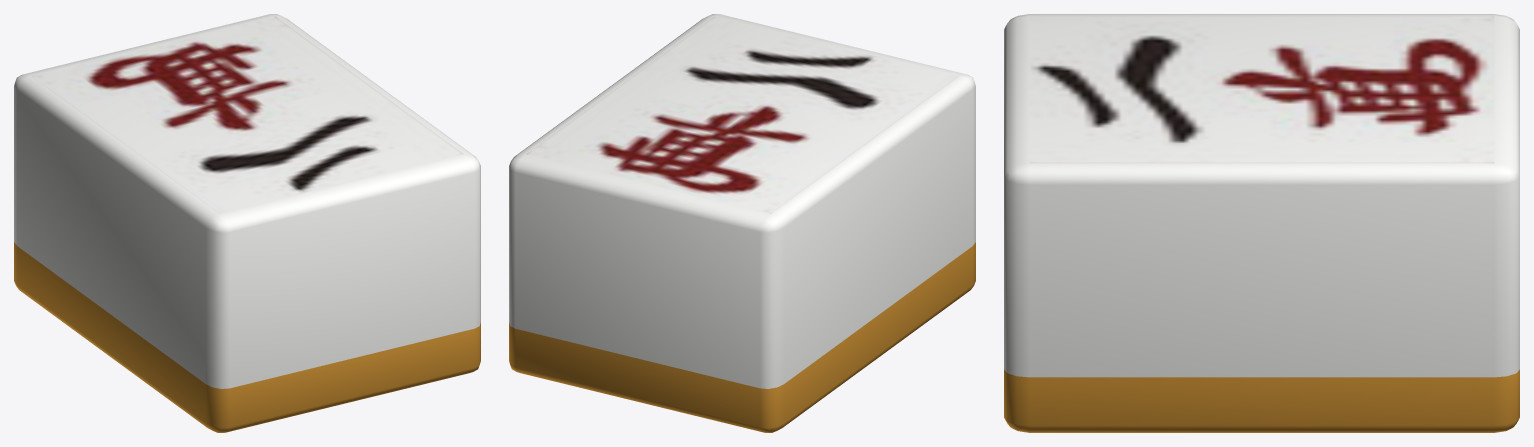
The picture shows the model from 3 angles, left to right: view 1: azimuth 30°, elevation 25°; view 2: azimuth 150°, elevation 25°; view 3: azimuth 270°, elevation 25°; orthographic projection. The views are drawn at different scales.
Parts seen in each view (by area): view 1: hai; view 2: hai; view 3: hai.
Part boxes in pixels (x1,y1,x2,y2): hai: (14,14,480,432); hai: (509,14,975,432); hai: (1004,14,1519,432).
Bounding box in the file's own units: 420 × 320 × 560.
Materials: 3 (1 with a texture image).
